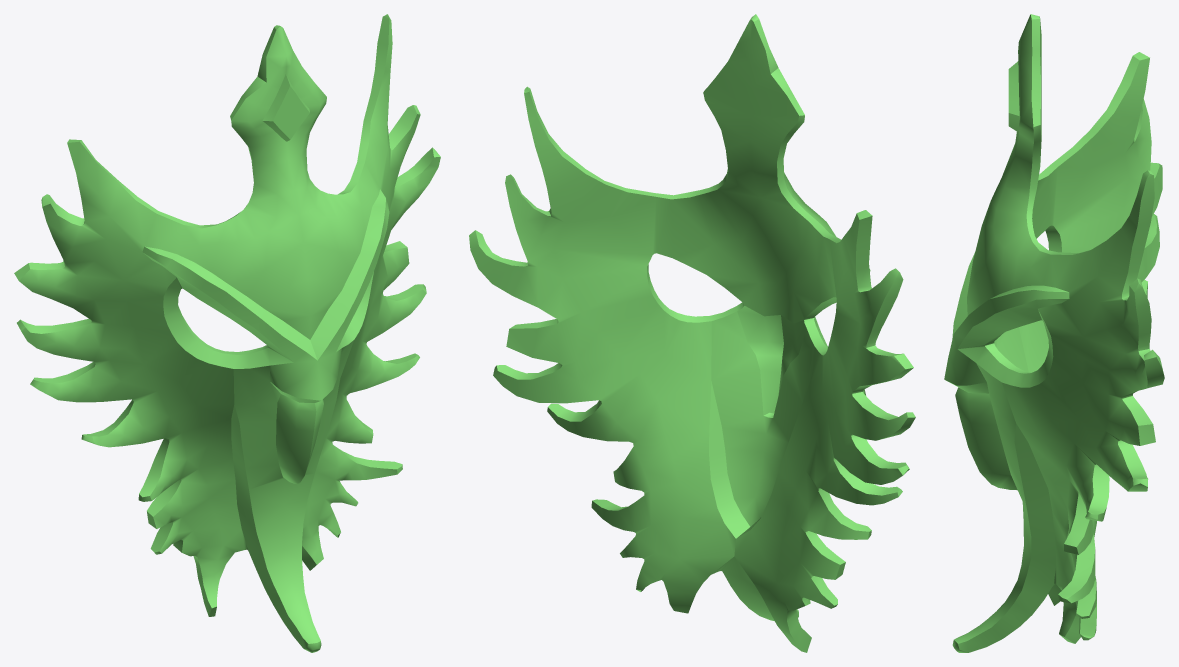
The model's file is SM_Rune_Staff_Mask_2.fbx.
3 views of the same model, side by side, from view 1: azimuth 30°, elevation 25°; view 2: azimuth 150°, elevation 25°; view 3: azimuth 270°, elevation 25° (orthographic). The views are drawn at different scales.
Parts seen in each view (by area): view 1: SM_Rune_Staff_Mask_2; view 2: SM_Rune_Staff_Mask_2; view 3: SM_Rune_Staff_Mask_2.
Part boxes in pixels (x1,y1,x2,y2): SM_Rune_Staff_Mask_2: (14,14,440,652); SM_Rune_Staff_Mask_2: (469,14,915,652); SM_Rune_Staff_Mask_2: (944,14,1164,652).
Bounding box in the file's own units: 0.2585 × 0.3546 × 0.111.
